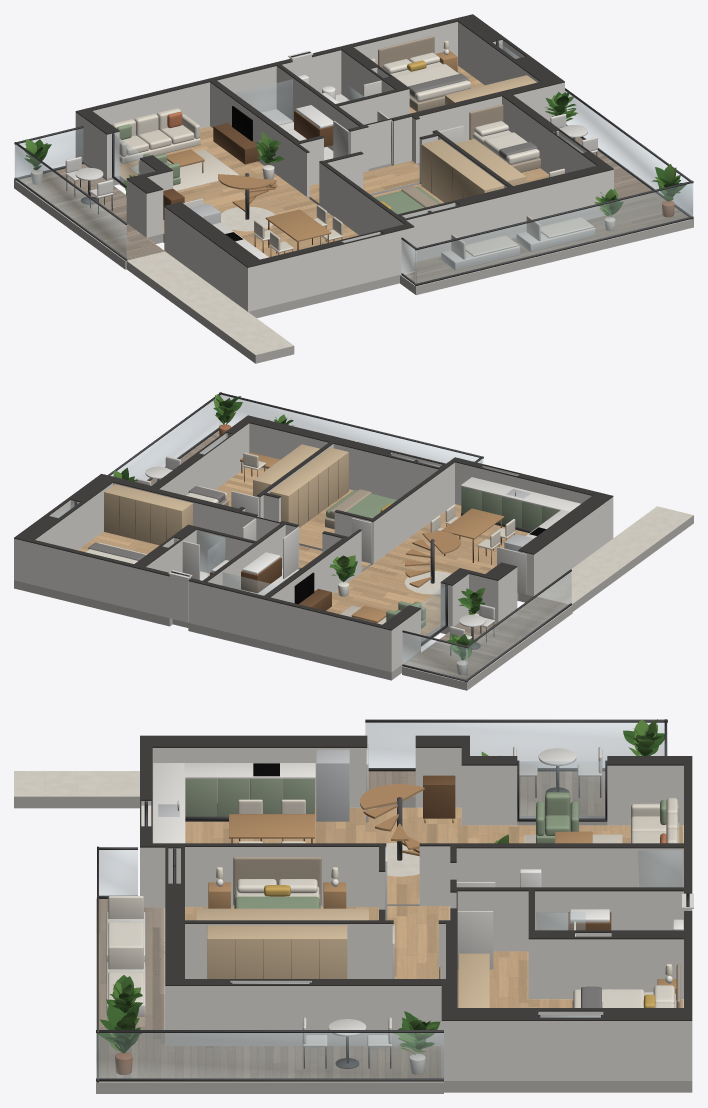
3 views of the same model, one above another, from view 1: azimuth 30°, elevation 25°; view 2: azimuth 150°, elevation 25°; view 3: azimuth 270°, elevation 25° (orthographic). The views are drawn at different scales.
Visible parts, largest first — view 1: walls, floor, caps, Cube.043, Cube.034, Cube.040, Cube.133, Cube.037, Cube.119, Cube.049, Cube.099, Cube.086 (+16 smaller); view 2: walls, floor, caps, Cube.106, Cube.133, Cube.034, Cube.043, Cube.040, Cube.037, Cube.083, Cube.145, Cube.086 (+16 smaller); view 3: walls, floor, caps, Cube.040, Cube.034, Cube.145, Cube, Cube.085, Cube.083, Cube.133, Cube.086, Cube.124 (+22 smaller).
Boxes of the visible parts, x1,y1,x2,y2 form: walls: [75, 22, 613, 311]; floor: [14, 66, 693, 363]; caps: [75, 14, 613, 267]; Cube.043: [415, 183, 692, 283]; Cube.034: [15, 145, 126, 258]; Cube.040: [565, 91, 692, 216]; Cube.133: [421, 139, 504, 202]; Cube.037: [15, 128, 82, 177]; Cube.119: [235, 79, 292, 124]; Cube.049: [129, 149, 238, 190]; Cube.099: [394, 64, 470, 101]; Cube.086: [265, 209, 331, 241]; walls: [14, 423, 613, 672]; floor: [14, 430, 693, 690]; caps: [14, 415, 613, 630]; Cube.106: [104, 484, 192, 545]; Cube.133: [270, 447, 348, 527]; Cube.034: [466, 572, 571, 679]; Cube.043: [219, 395, 483, 463]; Cube.040: [111, 395, 221, 480]; Cube.037: [403, 633, 467, 679]; Cube.083: [460, 477, 580, 511]; Cube.145: [253, 444, 319, 496]; Cube.086: [441, 508, 504, 539]; walls: [140, 748, 692, 1080]; floor: [14, 771, 692, 1093]; caps: [140, 735, 692, 1020]; Cube.040: [96, 1033, 443, 1078]; Cube.034: [365, 723, 667, 768]; Cube.145: [207, 925, 347, 978]; Cube: [519, 761, 604, 818]; Cube.085: [316, 749, 349, 821]; Cube.083: [153, 763, 185, 843]; Cube.133: [196, 908, 368, 920]; Cube.086: [229, 814, 314, 838]; Cube.124: [233, 857, 321, 904].
Size of the model in its own units: 13.75 by 1.58 by 12.62.
32 materials, 1 textured.
